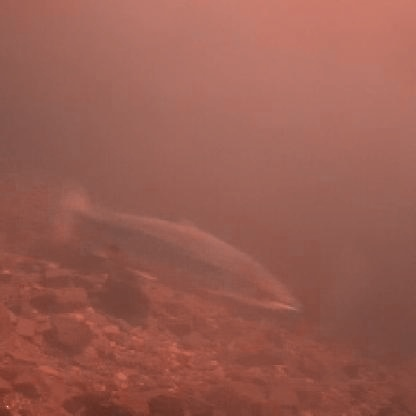salmon: (48, 178, 304, 314)
